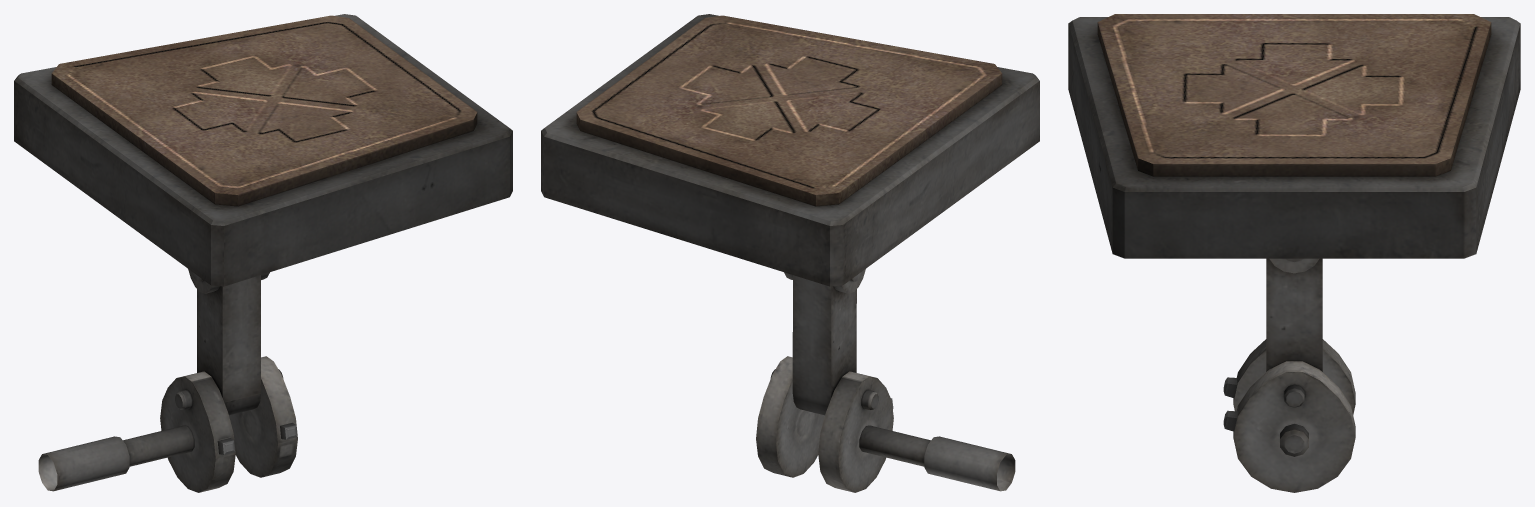
The model's file is SM_I_PressurePlate.FBX.
The picture shows the model from 3 angles, left to right: view 1: azimuth 30°, elevation 25°; view 2: azimuth 150°, elevation 25°; view 3: azimuth 270°, elevation 25°; orthographic projection. The views are drawn at different scales.
Visible parts, largest first — view 1: SM_CylinderWall007; view 2: SM_CylinderWall007; view 3: SM_CylinderWall007.
Part boxes in pixels (left/top/right/bottom): SM_CylinderWall007: left=14, top=14, right=512, bottom=492; SM_CylinderWall007: left=541, top=14, right=1039, bottom=492; SM_CylinderWall007: left=1068, top=14, right=1520, bottom=492.
Bounding box in the file's own units: 56.54 × 51.42 × 51.94.
